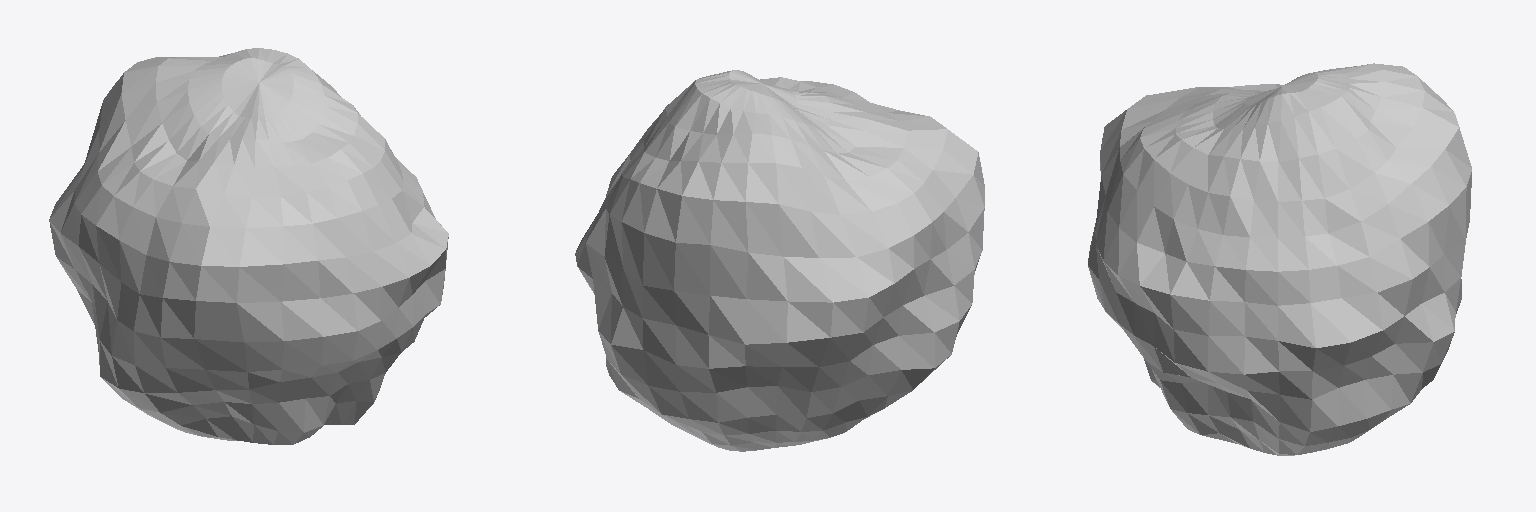
The model's file is pedra.obj.
3 views of the same model, side by side, from view 1: azimuth 30°, elevation 25°; view 2: azimuth 150°, elevation 25°; view 3: azimuth 270°, elevation 25° (orthographic).
Visible parts, largest first — view 1: Sphere; view 2: Sphere; view 3: Sphere.
Part boxes in pixels (bbox=[...]): Sphere: bbox=[49, 48, 448, 444]; Sphere: bbox=[575, 70, 984, 451]; Sphere: bbox=[1088, 63, 1471, 455].
Bounding box in the file's own units: 2.76 × 2.85 × 2.74.